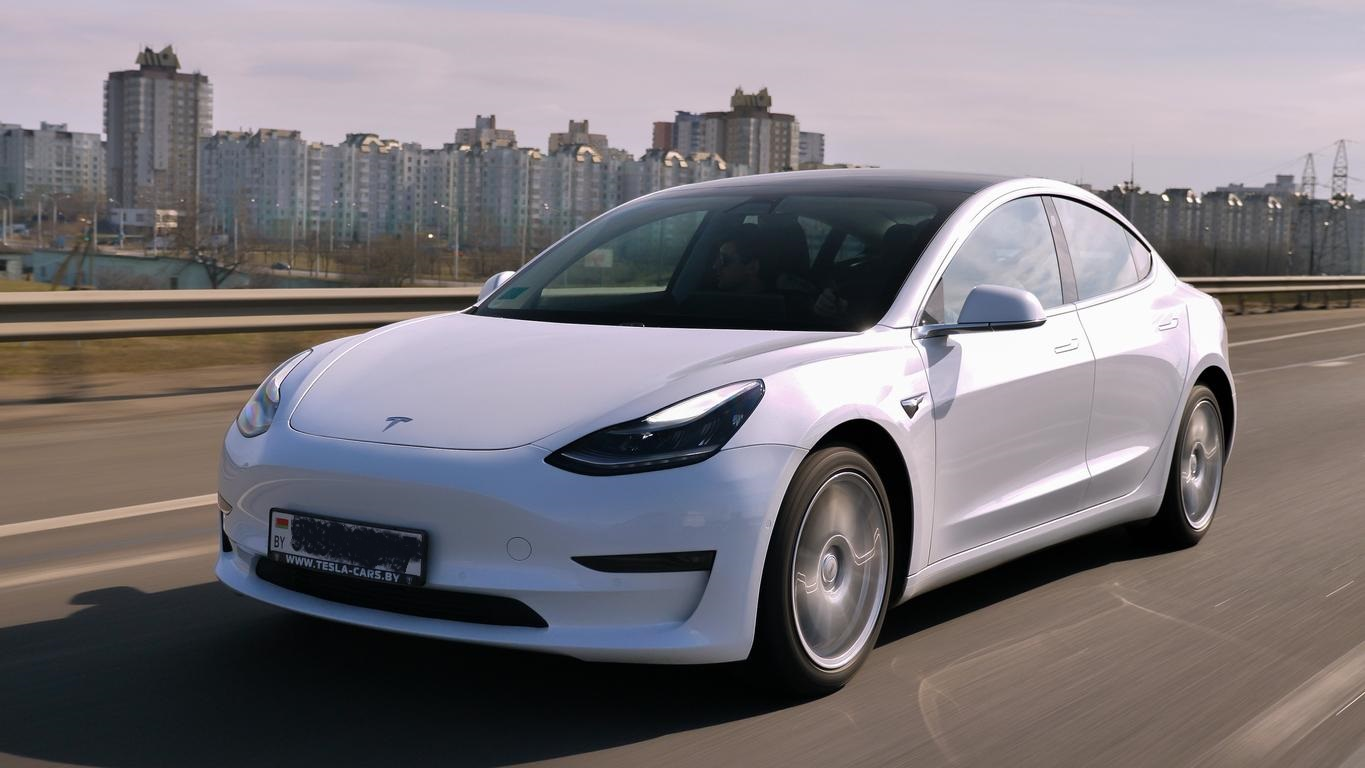Tesla: (379, 416, 414, 432)
